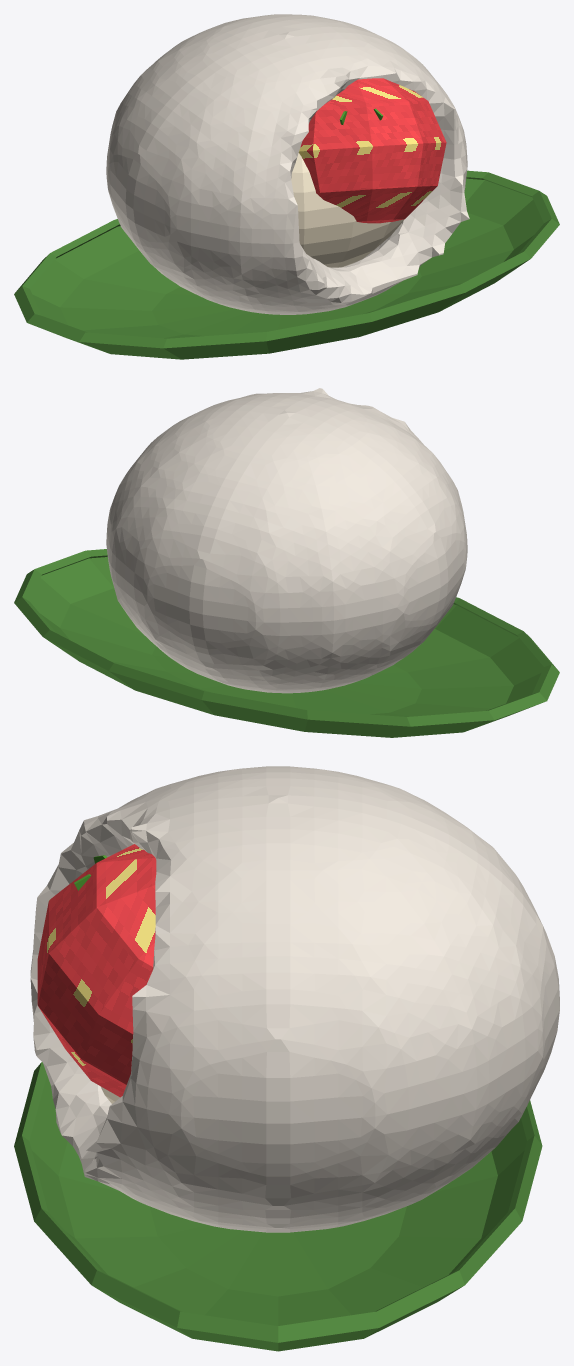
File: daifuku.obj
3 views of the same model, one above another, from view 1: azimuth 30°, elevation 25°; view 2: azimuth 150°, elevation 25°; view 3: azimuth 270°, elevation 25° (orthographic). The views are drawn at different scales.
Visible parts, largest first — view 1: A_Mochi.001_daifuku_mochi, C_Leaf.001_daifuku_leaf, B_Strawberry.001_daifuku_strawberry, B_Cream.001_daifuku_cream; view 2: A_Mochi.001_daifuku_mochi, C_Leaf.001_daifuku_leaf; view 3: A_Mochi.001_daifuku_mochi, C_Leaf.001_daifuku_leaf, B_Strawberry.001_daifuku_strawberry.
Boxes of the visible parts, box(x1,y1,x2,y2) form: A_Mochi.001_daifuku_mochi: box(106, 14, 469, 314); C_Leaf.001_daifuku_leaf: box(14, 170, 559, 359); B_Strawberry.001_daifuku_strawberry: box(298, 78, 446, 223); B_Cream.001_daifuku_cream: box(291, 153, 404, 267); A_Mochi.001_daifuku_mochi: box(106, 388, 467, 693); C_Leaf.001_daifuku_leaf: box(14, 549, 559, 737); A_Mochi.001_daifuku_mochi: box(30, 766, 559, 1232); C_Leaf.001_daifuku_leaf: box(14, 1062, 542, 1351); B_Strawberry.001_daifuku_strawberry: box(37, 844, 156, 1097).
Bounding box in the file's own units: 3.1 × 1.54 × 1.82.
